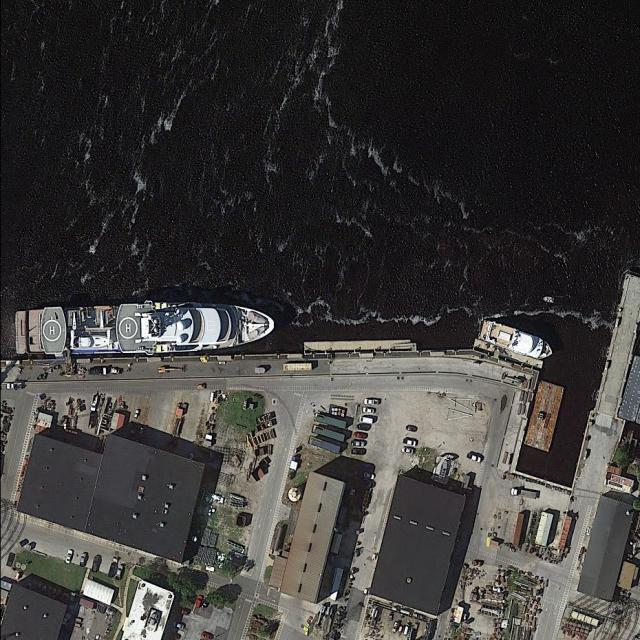Yacht: (13, 300, 273, 356), (476, 319, 556, 363)
